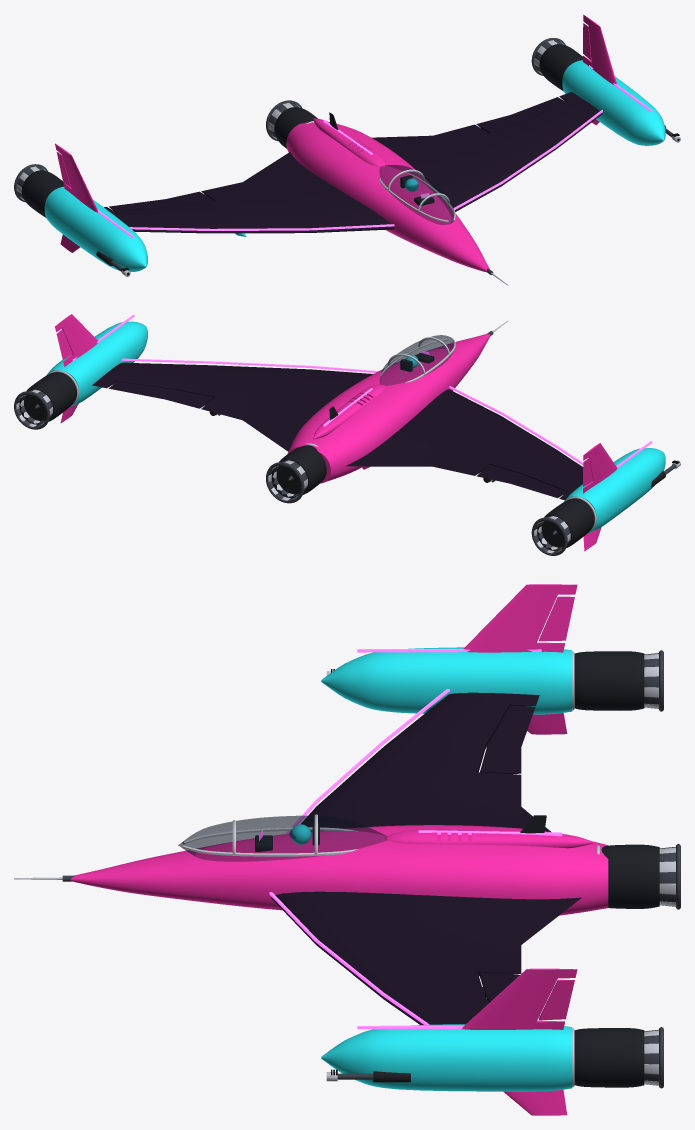
Rendered from mirage.glb.
3 renders of one model, top to bottom at view 1: azimuth 30°, elevation 25°; view 2: azimuth 150°, elevation 25°; view 3: azimuth 270°, elevation 25°, orthographic. The views are drawn at different scales.
Parts seen in each view (by area): view 1: SHIP; view 2: SHIP; view 3: SHIP.
Part boxes in pixels (x1,y1,x2,y2): SHIP: [14, 14, 680, 285]; SHIP: [14, 314, 680, 555]; SHIP: [14, 584, 680, 1115].
Bounding box in the file's own units: 18.72 × 3.19 × 13.02.
